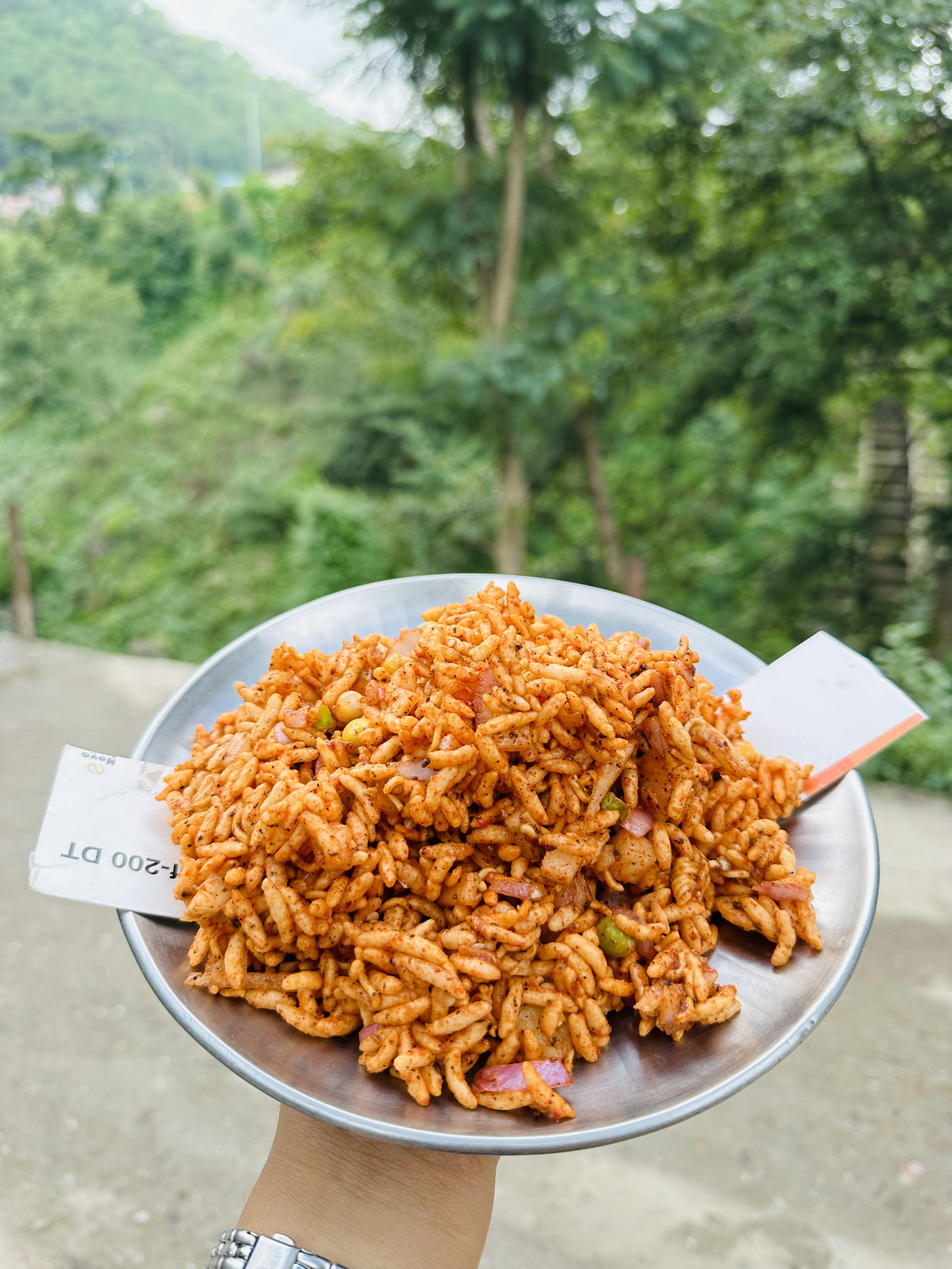chatpate: (220, 655, 796, 1080)
